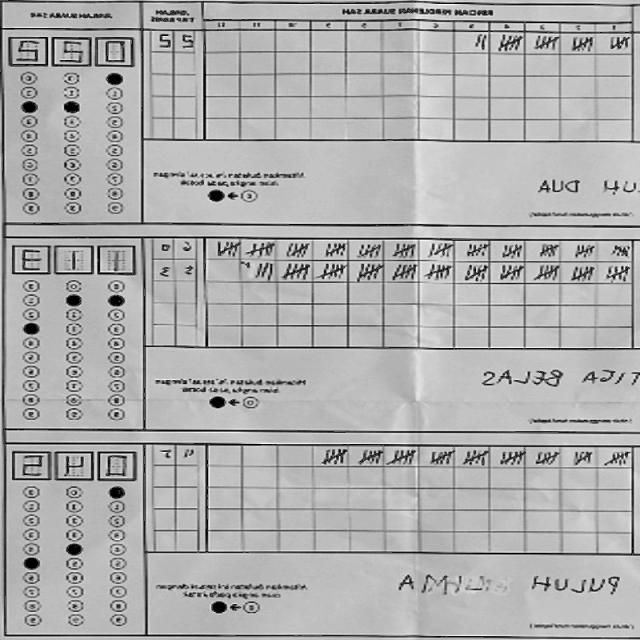Suara: (6, 29, 140, 70), (11, 444, 142, 485), (9, 239, 142, 277)
